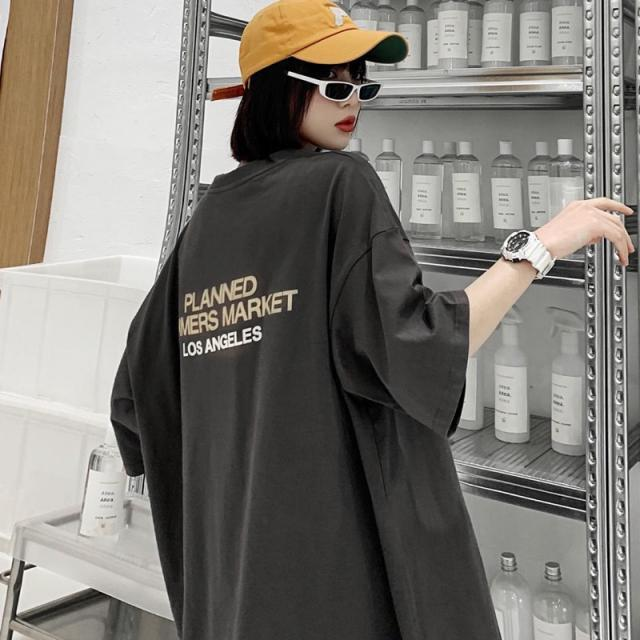Shirt: (107, 143, 505, 639)
